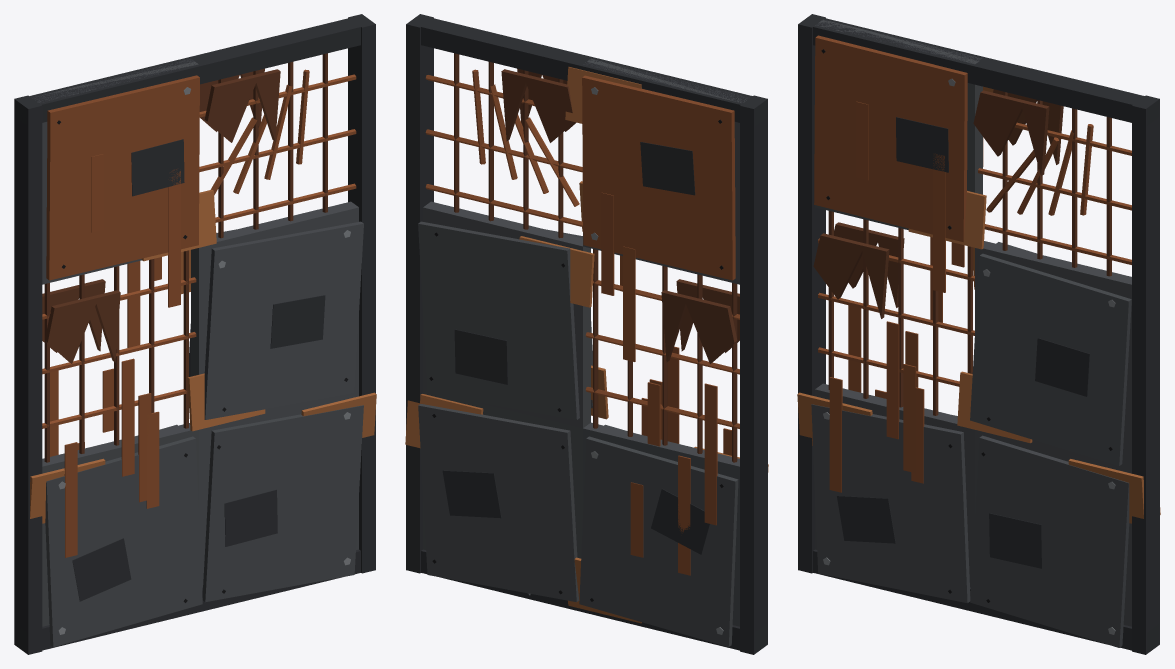
File: piece_wall_reinforced_critical.fbx
3 views of the same model, side by side, from view 1: azimuth 30°, elevation 25°; view 2: azimuth 150°, elevation 25°; view 3: azimuth 330°, elevation 25° (orthographic).
Visible parts, largest first — view 1: piece_wall_reinforced_critical; view 2: piece_wall_reinforced_critical; view 3: piece_wall_reinforced_critical.
Boxes of the visible parts, left/top/right/bottom form: piece_wall_reinforced_critical: left=14, top=14, right=376, bottom=654; piece_wall_reinforced_critical: left=405, top=14, right=768, bottom=654; piece_wall_reinforced_critical: left=797, top=14, right=1160, bottom=654.
Bounding box in the file's own units: 2 × 3 × 0.196.
